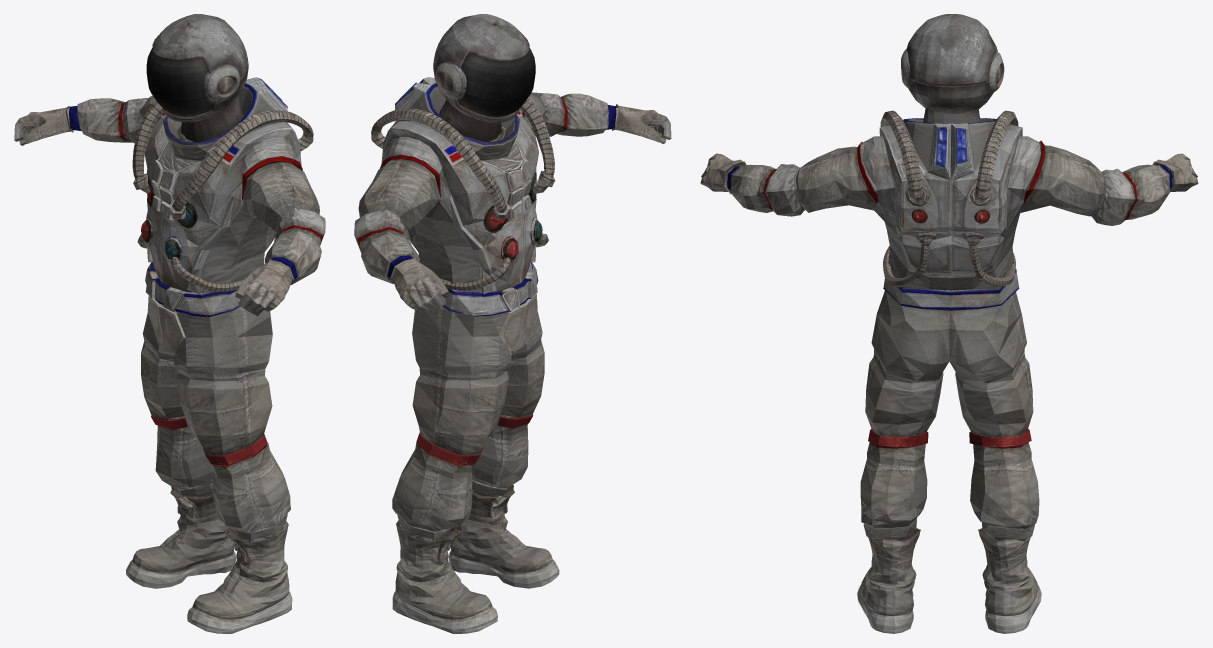
File: T7KBO05GF594P1IHQI3QEN7FC.gltf
3 views of the same model, side by side, from view 1: azimuth 30°, elevation 25°; view 2: azimuth 150°, elevation 25°; view 3: azimuth 270°, elevation 25° (orthographic).
Bounding box in the file's own units: 0.77 × 2.5 × 1.92.
Materials: 2 (2 with a texture image).
